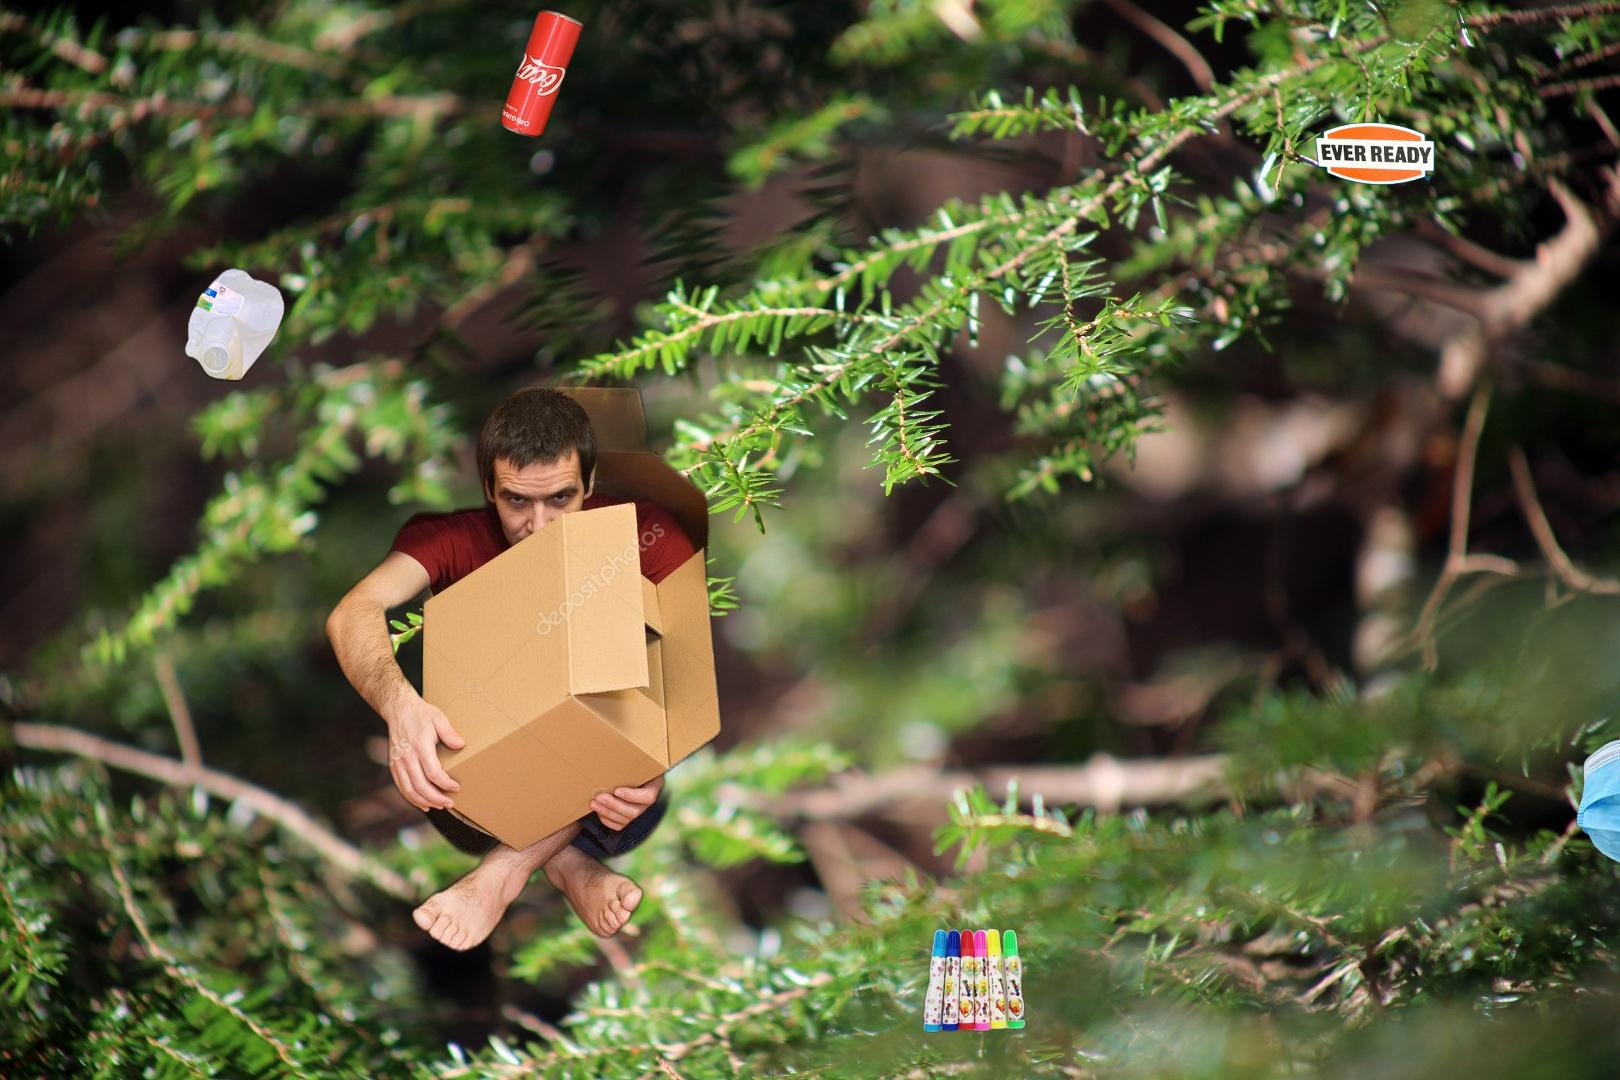battery: (1311, 121, 1438, 188)
metal-cans: (495, 2, 589, 143)
penholder: (920, 914, 1028, 1035)
plastic-bottles: (180, 262, 289, 387)
trash: (1574, 735, 1620, 897)
trashbox-cardboard: (318, 337, 728, 959)
